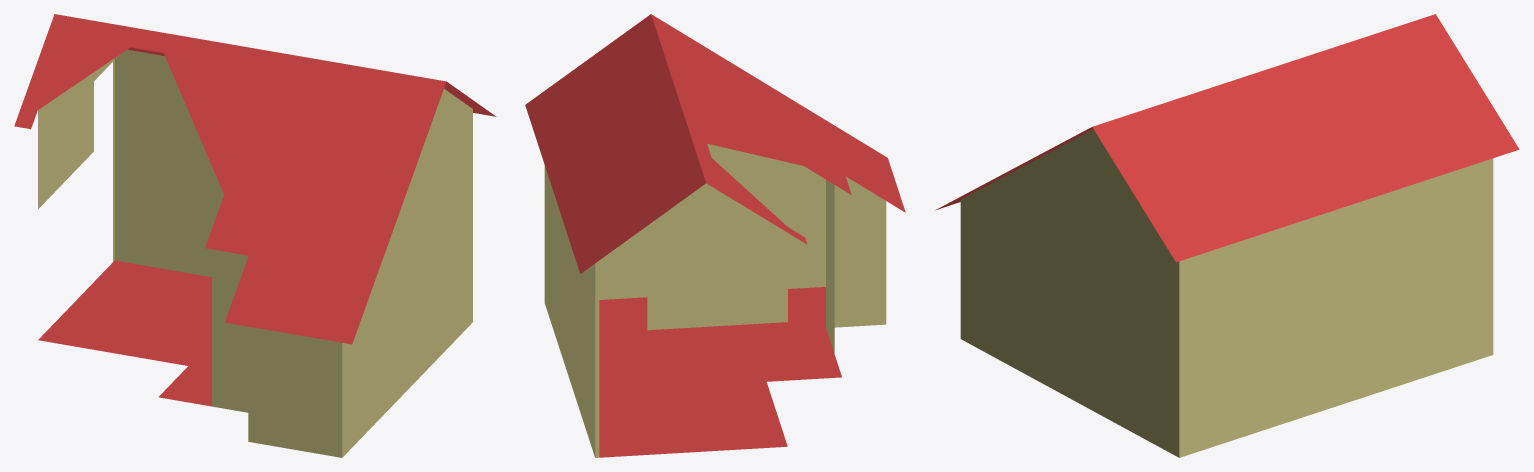
The picture shows the model from 3 angles, left to right: view 1: azimuth 30°, elevation 25°; view 2: azimuth 150°, elevation 25°; view 3: azimuth 270°, elevation 25°; orthographic projection. The views are drawn at different scales.
Bounding box in the file's own units: 18.52 × 23.48 × 13.12.
